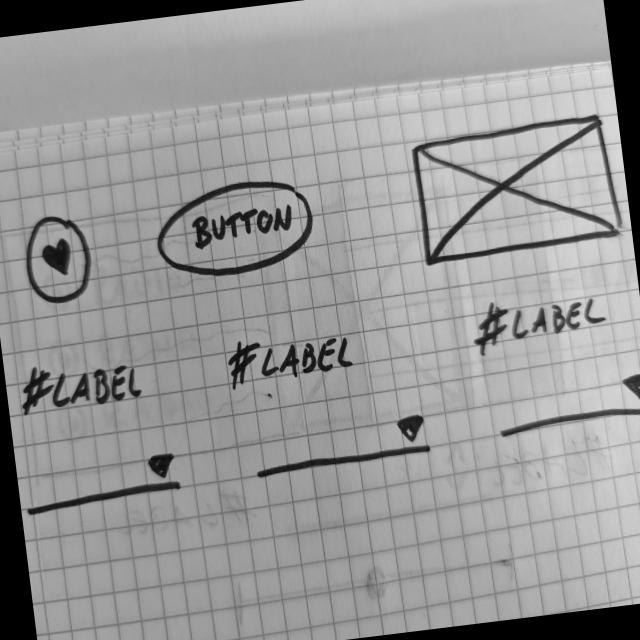button: (149, 170, 320, 286)
icon-button: (18, 208, 99, 310)
image: (404, 108, 630, 270)
label: (464, 283, 612, 356), (221, 323, 355, 392), (14, 351, 147, 418)
select: (247, 408, 435, 484), (486, 367, 640, 444), (19, 448, 188, 518)
